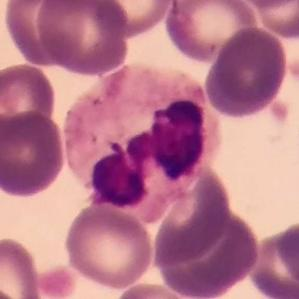Neutrophil: (61, 55, 222, 221)
RBC: (152, 206, 263, 298), (61, 201, 156, 291), (204, 25, 290, 120), (150, 168, 232, 265), (34, 0, 131, 78), (0, 108, 68, 200), (162, 0, 260, 63), (1, 0, 78, 68), (0, 60, 59, 138), (245, 221, 299, 299), (88, 0, 177, 39), (194, 268, 296, 299), (0, 234, 44, 299), (15, 263, 83, 299), (253, 0, 299, 41), (275, 217, 299, 292), (111, 281, 197, 299), (228, 0, 299, 9)
